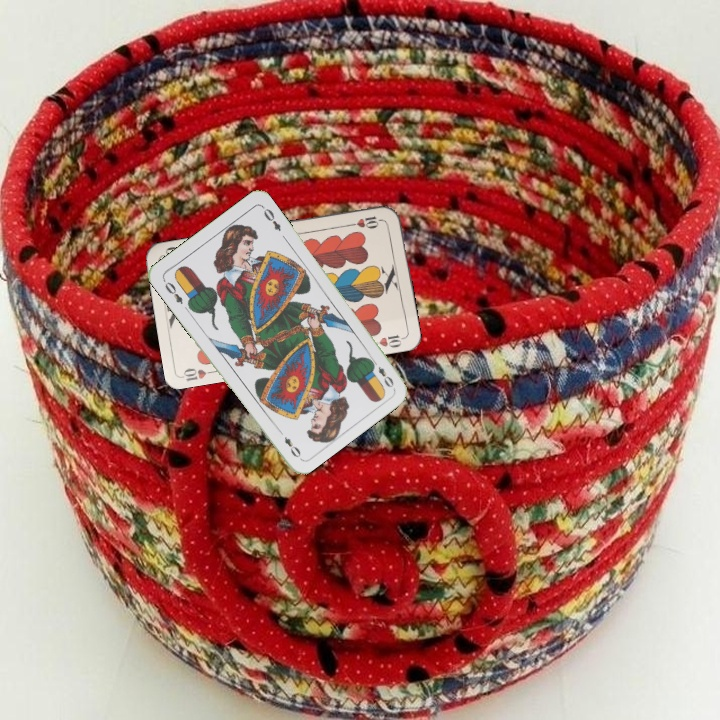EO: (367, 355, 397, 390), (159, 276, 186, 307)
H10: (179, 364, 220, 383), (345, 212, 385, 231)
